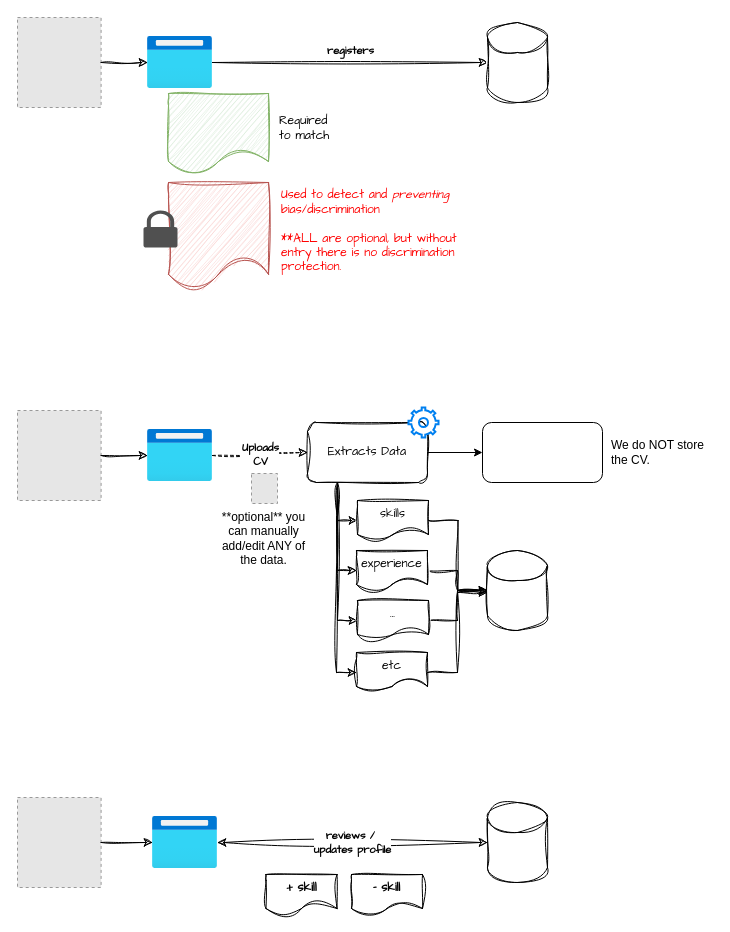
The diagram is 730 pixels wide and 932 high, and some of its shapes have lost their labels. Grey dashed boxes stand in for pictures. The shapes that lost their labels are listed below. From the top down, each one's centre as x and y in pixels, then its label:
At (218,133): "Email Password Salary etc.".
At (218,236): "DOB Sex Religion Race Education".
At (542,452): "Deletes CV".
